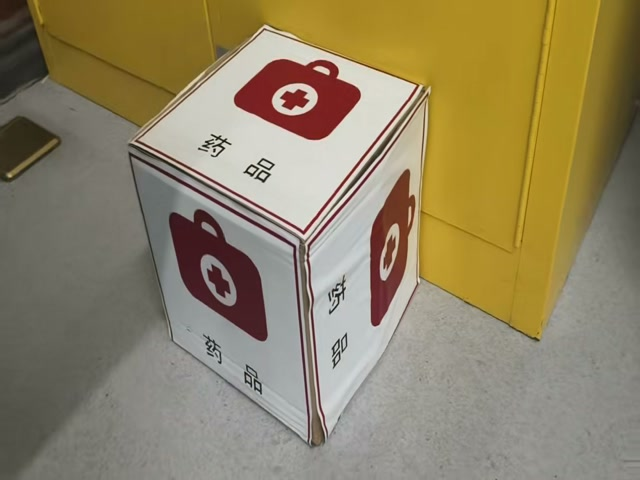Cube_medicine: (129, 27, 427, 255)
